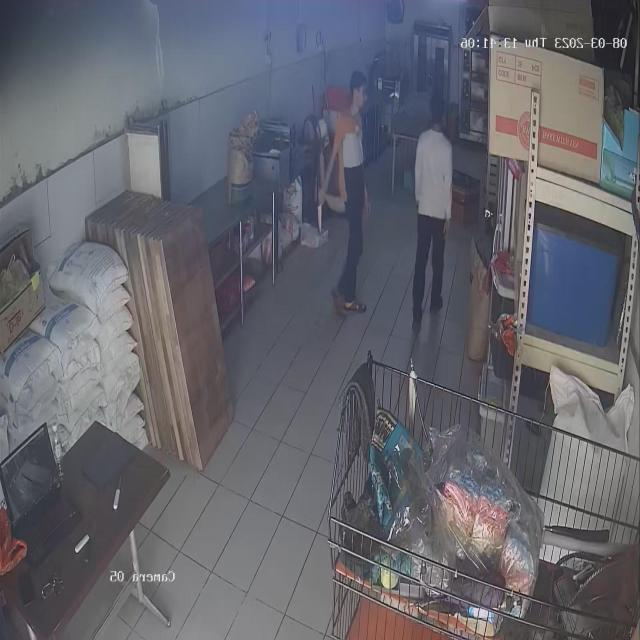Knife: (304, 202, 330, 238)
